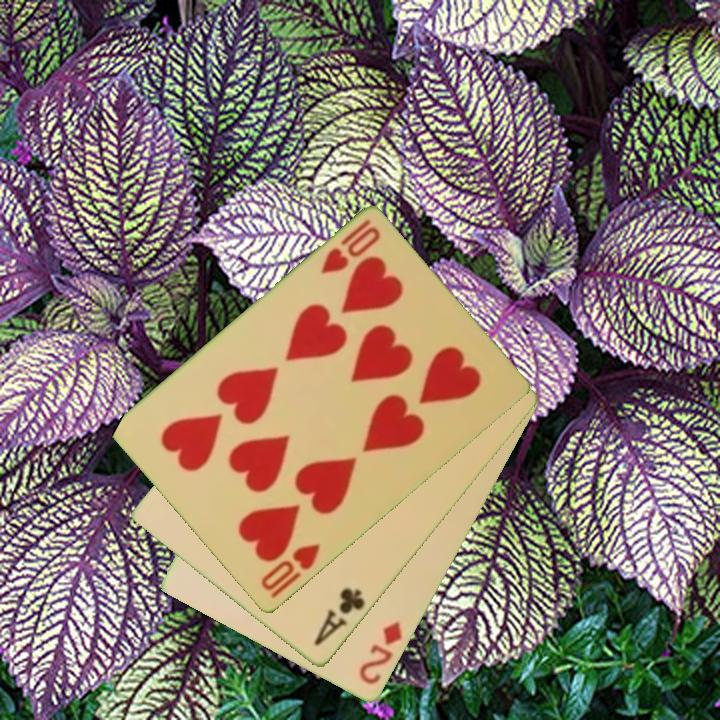10h: (257, 540, 324, 602), (317, 216, 384, 278)
2d: (355, 618, 406, 688)
Ac: (310, 584, 369, 650)
